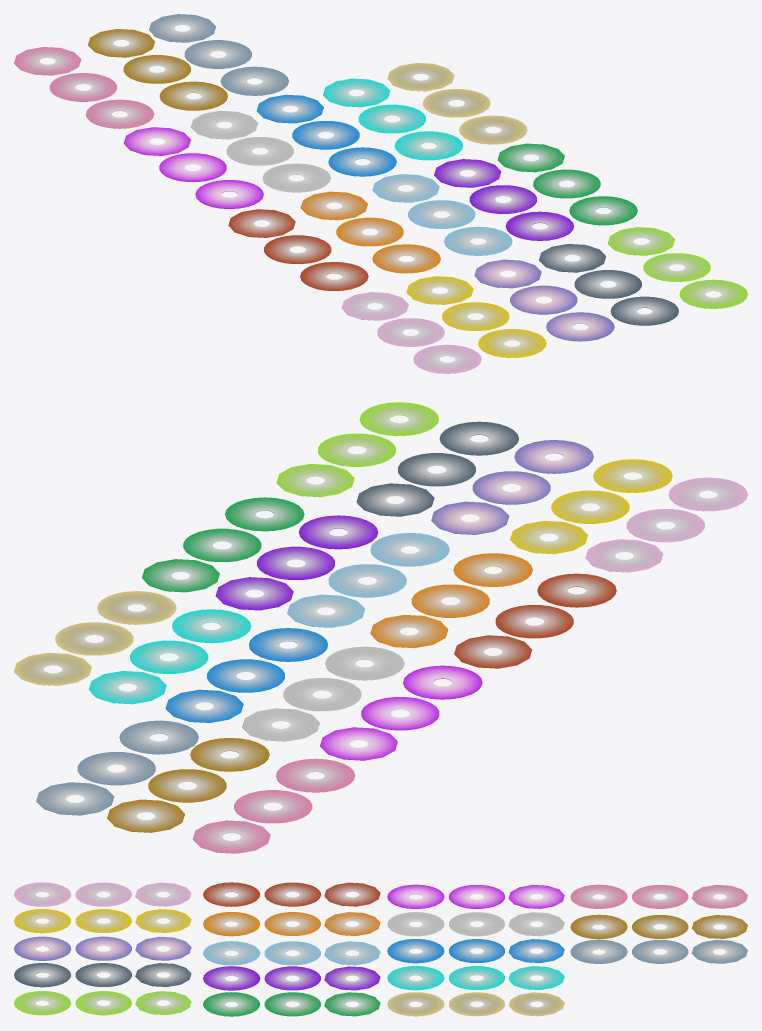
The model's file is TMs_v1.fbx.
The picture shows the model from 3 angles, top to bottom: view 1: azimuth 30°, elevation 25°; view 2: azimuth 150°, elevation 25°; view 3: azimuth 270°, elevation 25°; orthographic projection. The views are drawn at different scales.
Parts seen in each view (by area): view 1: TM_Dragon, TM_Bug, TM_Poison, TM_Psychic, TM_Normal, TM_Fire, TM_Ghost, TM_Grass, TM_Electric, TM_Fighting, TM_Ground, TM_Ice (+6 smaller); view 2: TM_Ground, TM_Steel, TM_Psychic, TM_Fairy, TM_Dark, TM_Rock, TM_Fighting, TM_Normal, TM_Dragon, TM_Electric, TM_Grass, TM_Poison (+6 smaller); view 3: TM_Fighting, TM_Fairy, TM_Rock, TM_Grass, TM_Flying, TM_Ghost, TM_Ground, TM_Steel, TM_Bug, TM_Dragon, TM_Water, TM_Normal (+6 smaller).
Boxes of the visible parts, x1,y1,x2,y2 form: TM_Dragon: (474, 259, 614, 341); TM_Bug: (607, 227, 747, 308); TM_Poison: (123, 127, 263, 208); TM_Psychic: (14, 47, 154, 128); TM_Normal: (191, 110, 330, 192); TM_Fire: (300, 191, 440, 273); TM_Ghost: (434, 159, 574, 240); TM_Grass: (497, 143, 637, 225); TM_Electric: (406, 276, 546, 357); TM_Fighting: (228, 209, 368, 290); TM_Ground: (387, 63, 527, 144); TM_Ice: (323, 78, 462, 160); TM_Ground: (14, 591, 176, 685); TM_Steel: (36, 720, 198, 815); TM_Psychic: (192, 758, 355, 853); TM_Fairy: (585, 477, 747, 572); TM_Dark: (356, 421, 518, 516); TM_Rock: (107, 738, 269, 832); TM_Fighting: (454, 573, 616, 668); TM_Normal: (242, 646, 404, 741); TM_Dragon: (431, 440, 593, 534); TM_Electric: (510, 459, 672, 554); TM_Grass: (142, 497, 304, 592); TM_Poison: (320, 665, 482, 760); TM_Fighting: (203, 882, 380, 906); TM_Fairy: (14, 882, 191, 906); TM_Rock: (570, 914, 747, 939); TM_Grass: (203, 992, 380, 1016); TM_Flying: (203, 941, 380, 965); TM_Ghost: (203, 966, 380, 990); TM_Ground: (387, 992, 564, 1016); TM_Steel: (570, 939, 747, 963); TM_Bug: (14, 991, 191, 1015); TM_Dragon: (14, 936, 191, 960); TM_Water: (387, 939, 564, 963); TM_Normal: (387, 912, 564, 936).
Size of the model in its own units: 166 by 0.15 by 385.
